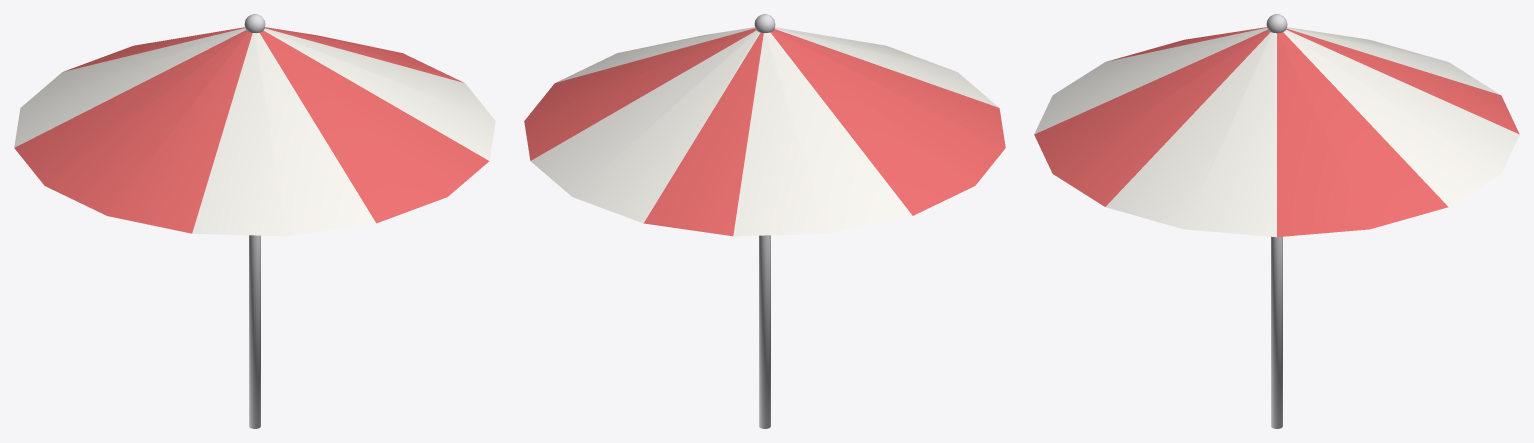
The model's file is parasol.fbx.
3 renders of one model, left to right at view 1: azimuth 30°, elevation 25°; view 2: azimuth 150°, elevation 25°; view 3: azimuth 270°, elevation 25°, orthographic.
Visible parts, largest first — view 1: parasol; view 2: parasol; view 3: parasol.
Boxes of the visible parts, left/top/right/bottom form: parasol: left=14, top=14, right=495, bottom=428; parasol: left=524, top=14, right=1005, bottom=428; parasol: left=1034, top=14, right=1519, bottom=428.
Bounding box in the file's own units: 2.3 × 2.15 × 2.3.
